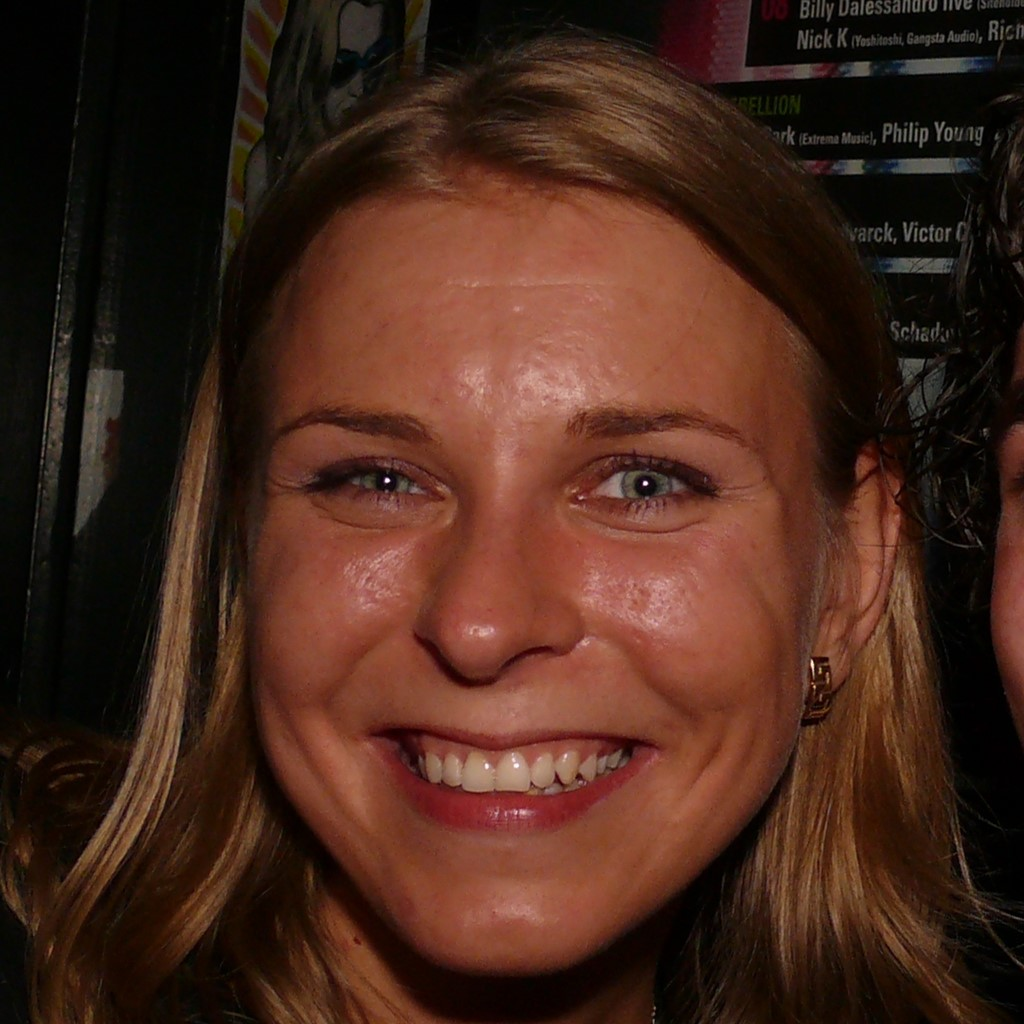sin_mascara: (230, 142, 804, 919)
